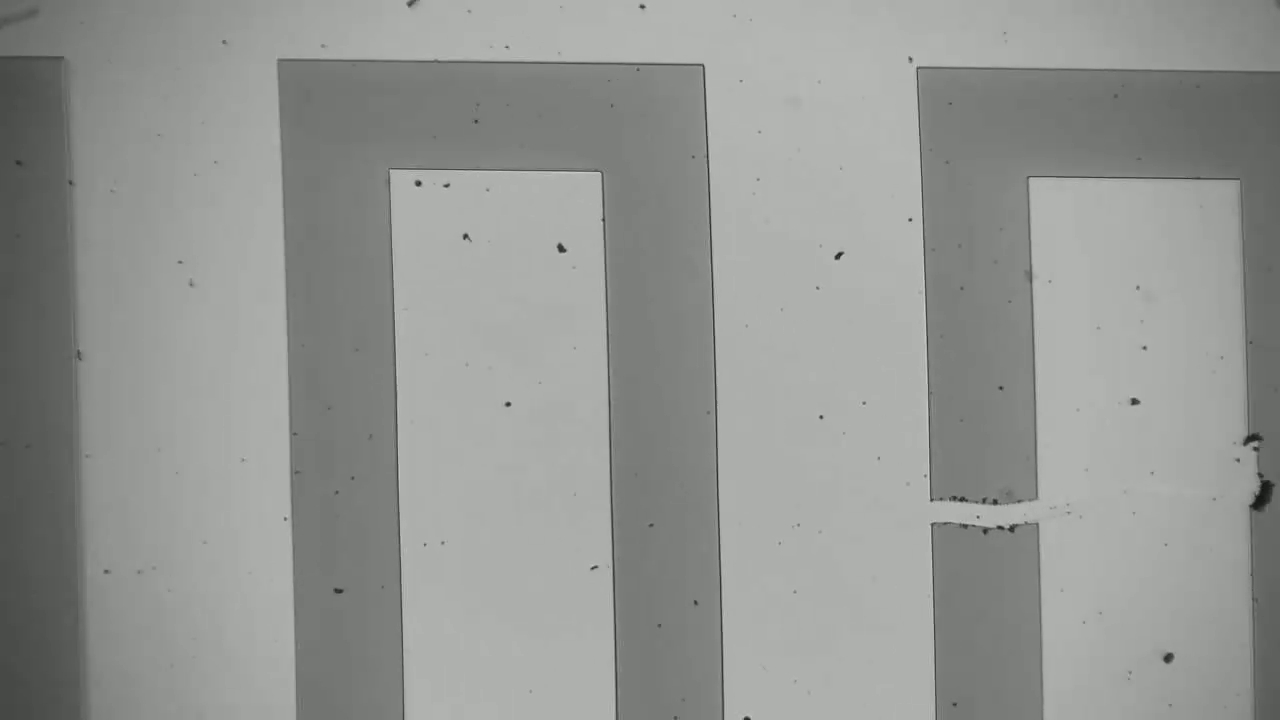Short_circuit: (914, 473, 1064, 560)
